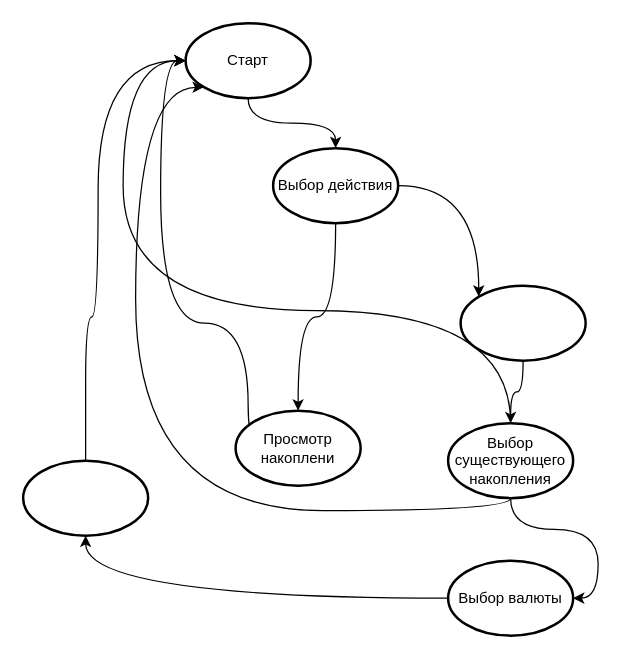
This 620x658 diagram has some shape labels left out. The centre of each missing label's shape, as x and y in pixels:
"Ввод нового значения" belongs at (x=85, y=497).
"Редактирование" belongs at (x=522, y=322).
